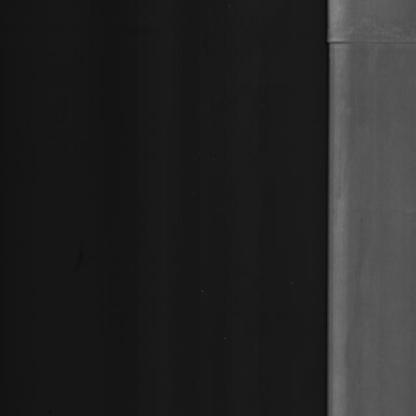welding_line: (325, 31, 416, 55)
